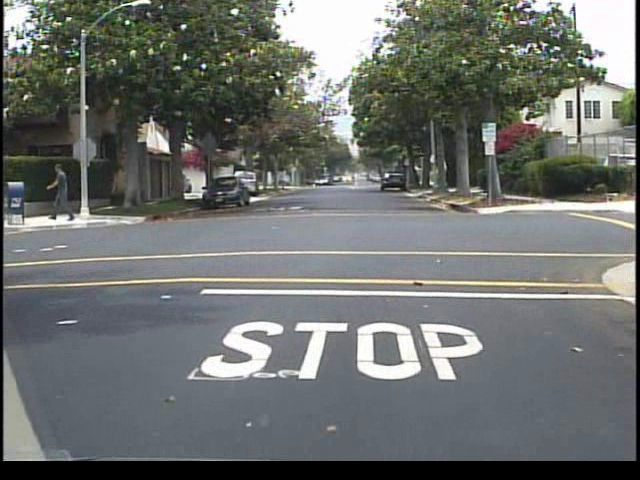person: (48, 160, 79, 226)
